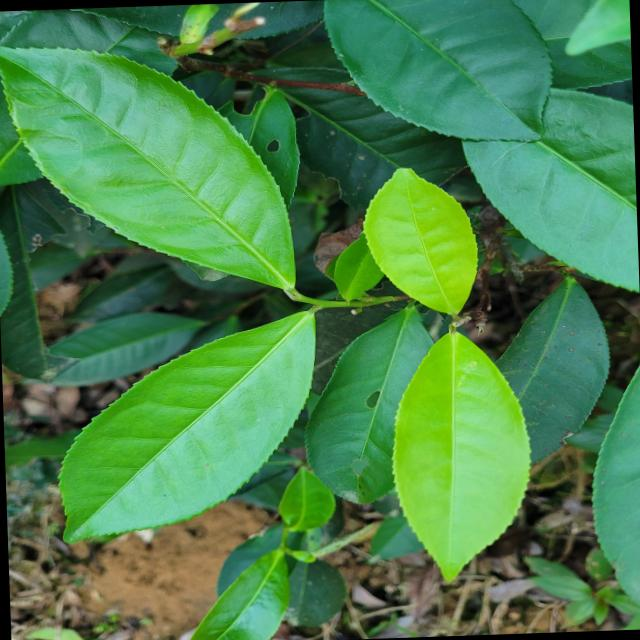Catagory A(1-2 days): (356, 166, 486, 324)
